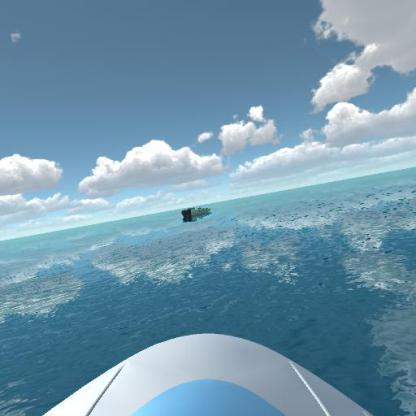usv0: (179, 199, 215, 224)
